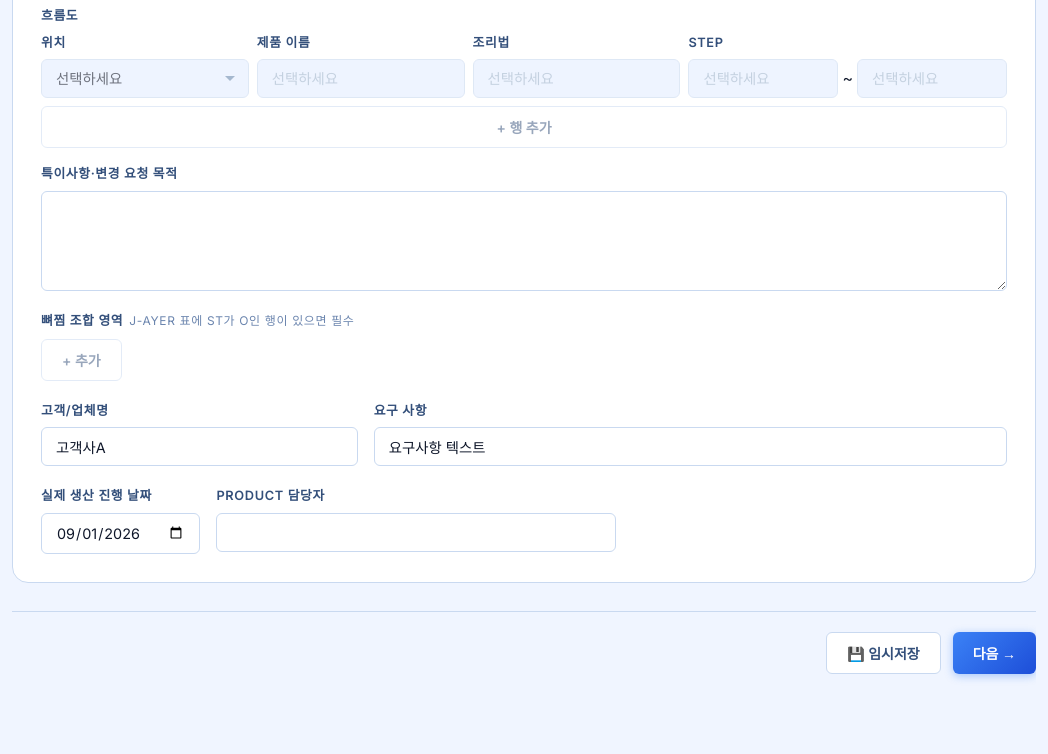
Test: 일반 목적 상신 시 J/O 0행 확인 모달 › Only MAP 문서는 J/O 가 0행이어도 확인 모달을 띄우지 않는다
(page scrolled)
Expected: the field showing "고객사A" below "고객/업체명" is shown, [41, 427, 358, 466]
Click the button "다음 →": [994, 653] box [953, 632, 1036, 674]
(page scrolled)
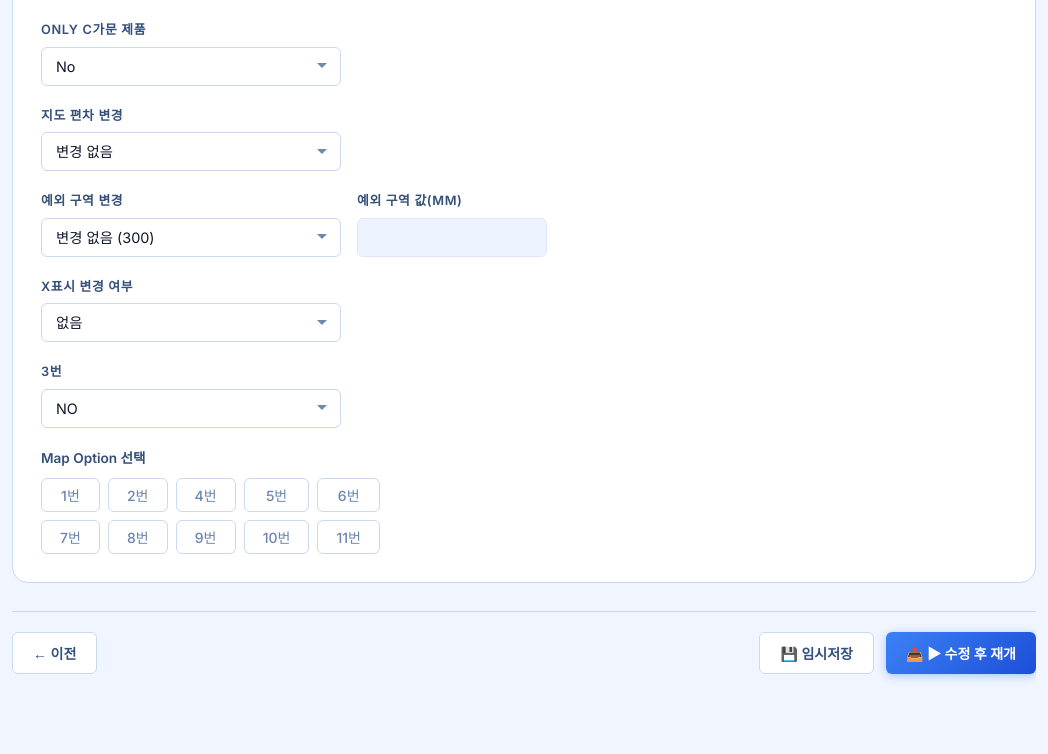
Click the button "📤 ▶ 수정 후 재개": [961, 652] box [886, 632, 1036, 674]
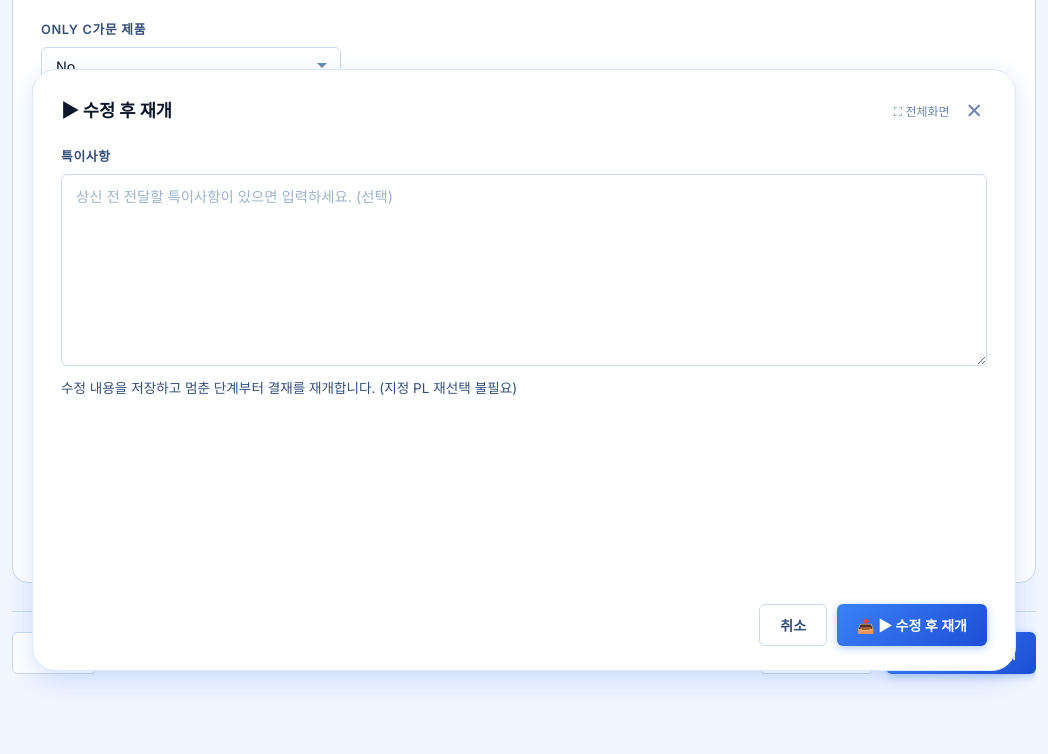
Expected: the button "📤 ▶ 수정 후 재개" is shown, [837, 604, 987, 646]
